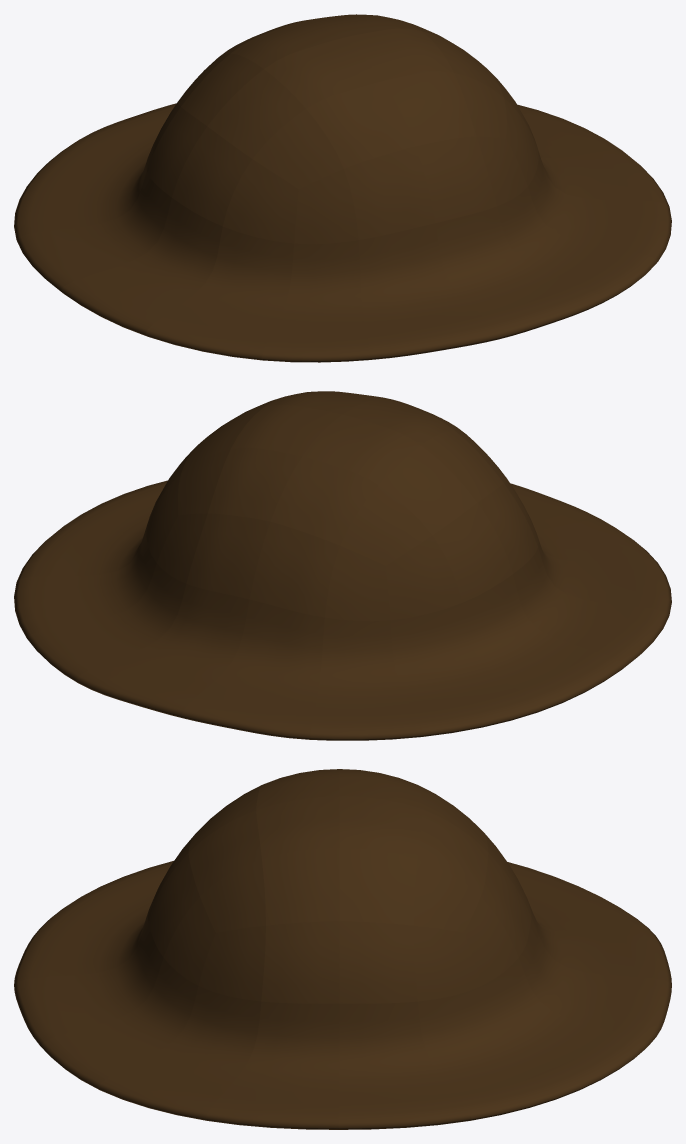
File: PlayerHat.fbx
The picture shows the model from 3 angles, top to bottom: view 1: azimuth 30°, elevation 25°; view 2: azimuth 150°, elevation 25°; view 3: azimuth 270°, elevation 25°; orthographic projection. The views are drawn at different scales.
Parts seen in each view (by area): view 1: man.004; view 2: man.004; view 3: man.004.
Boxes of the visible parts, bbox=[...] form: man.004: bbox=[14, 14, 671, 362]; man.004: bbox=[14, 391, 671, 740]; man.004: bbox=[14, 769, 671, 1129].
Size of the model in its own units: 182 by 59.57 by 178.
